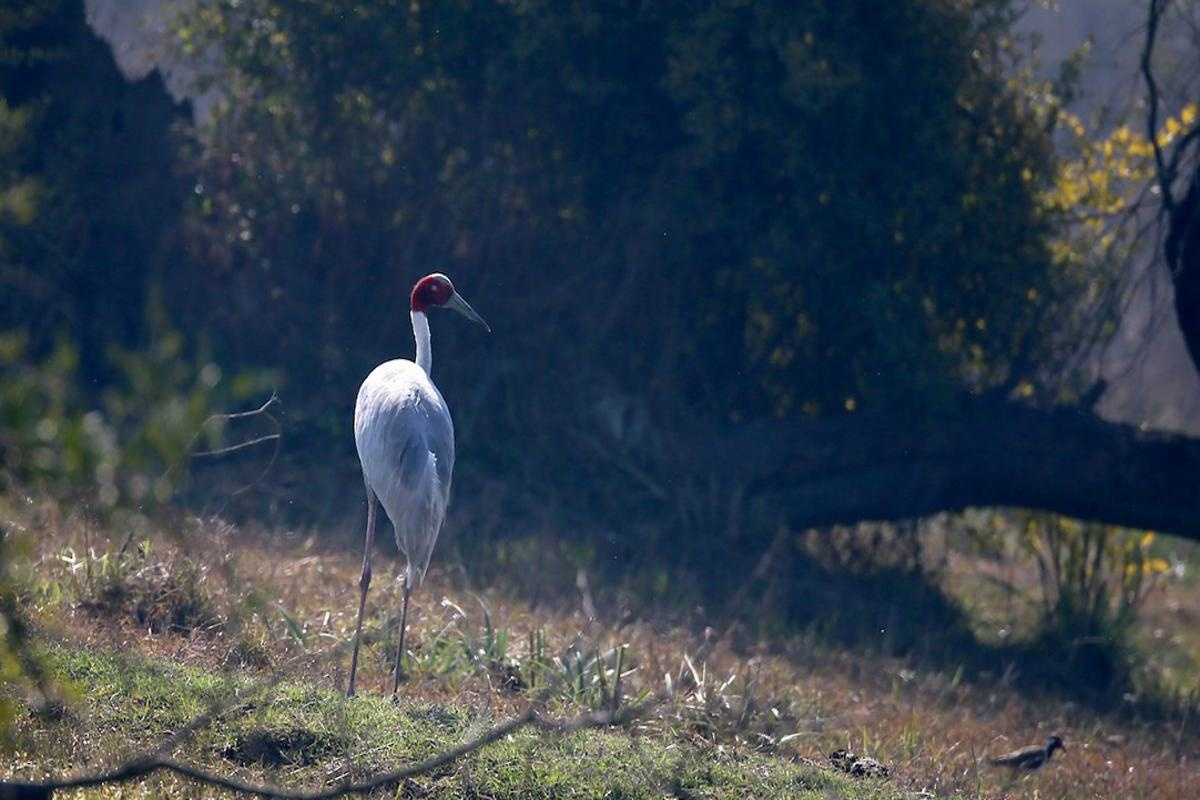crane: (344, 245, 461, 713)
